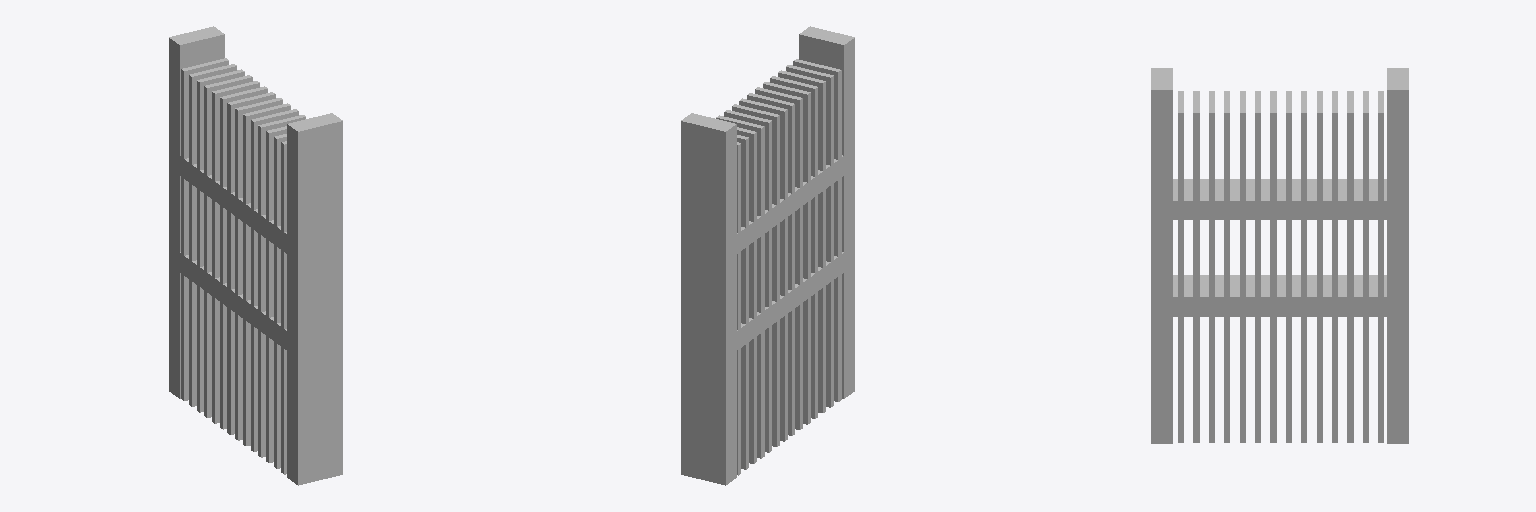
File: gerbang.obj
3 views of the same model, side by side, from view 1: azimuth 30°, elevation 25°; view 2: azimuth 150°, elevation 25°; view 3: azimuth 270°, elevation 25° (orthographic).
Visible parts, largest first — view 1: Cube.003, Cube, Cube.002, Cube.004; view 2: Cube.003, Cube.002, Cube, Cube.004; view 3: Cube.003, Cube.004, Cube.002, Cube.
Part boxes in pixels (x1,y1,x2,y2): Cube.003: (181, 58, 305, 474); Cube: (287, 113, 342, 485); Cube.002: (169, 26, 224, 398); Cube.004: (173, 153, 293, 355); Cube.003: (716, 59, 841, 475); Cube.002: (681, 113, 736, 485); Cube: (799, 26, 854, 398); Cube.004: (730, 151, 850, 355); Cube.003: (1178, 91, 1383, 442); Cube.004: (1158, 179, 1399, 316); Cube.002: (1387, 68, 1408, 443); Cube: (1151, 68, 1172, 443).
Size of the model in its own units: 0.4 by 3 by 1.99.